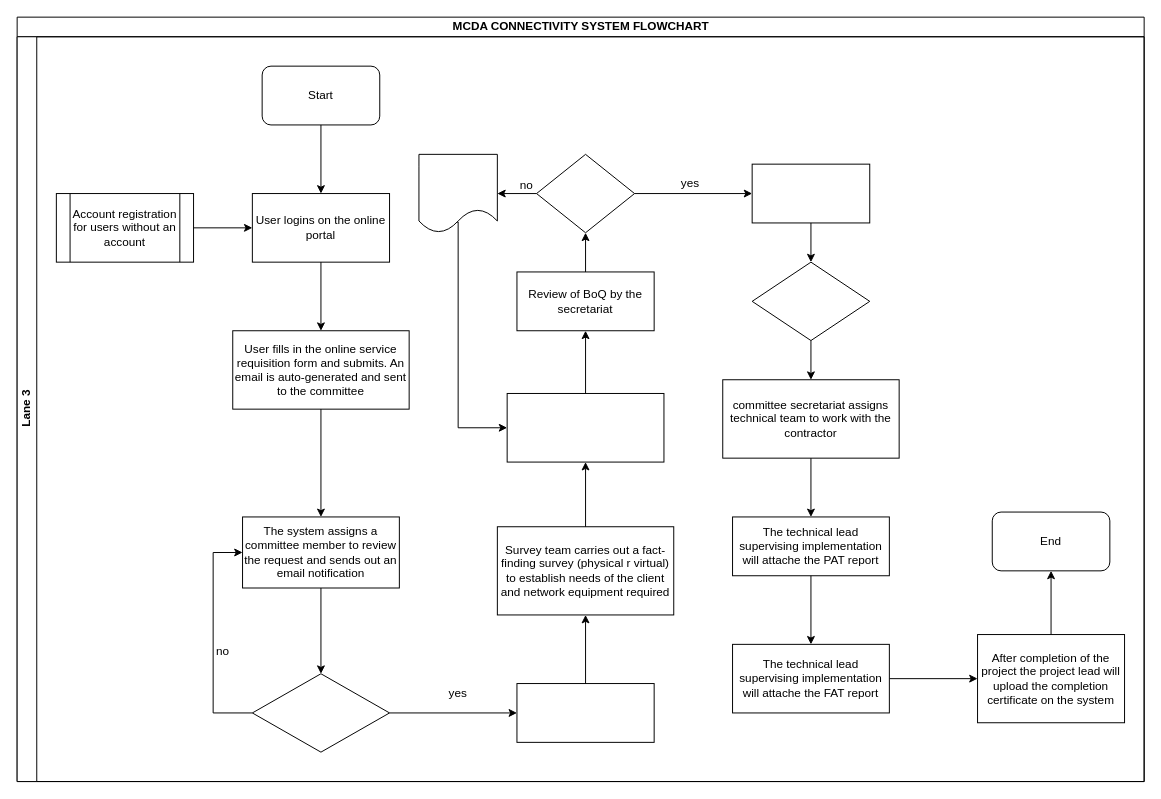
Image size: 1161x799. Some labels were removed from this diagram. Each missing label, with the box of its shape:
agree with BoQ?: (536, 153, 635, 233)
BoQ approved by client?: (751, 261, 870, 341)
Comments: (418, 153, 497, 233)
Committee secretariat assigns members of survey: (516, 683, 654, 742)
Notify customer to review BoQ: (751, 163, 870, 223)
Reviewed within 24 hours?: (251, 673, 390, 752)
The contractor performs a low level survey to established bill of quantities: (506, 392, 664, 462)
